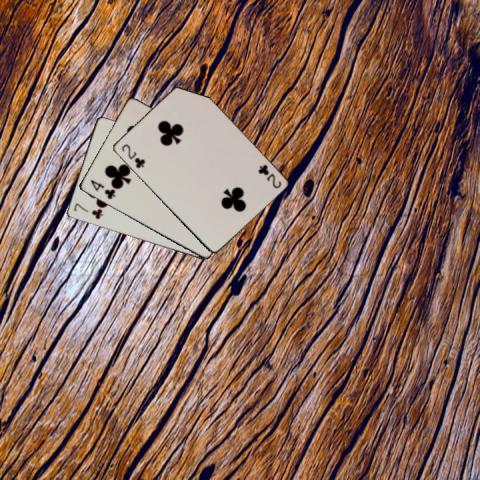2c: (118, 141, 147, 170), (254, 161, 282, 190)
4c: (87, 176, 117, 200)
7c: (71, 200, 104, 220)
